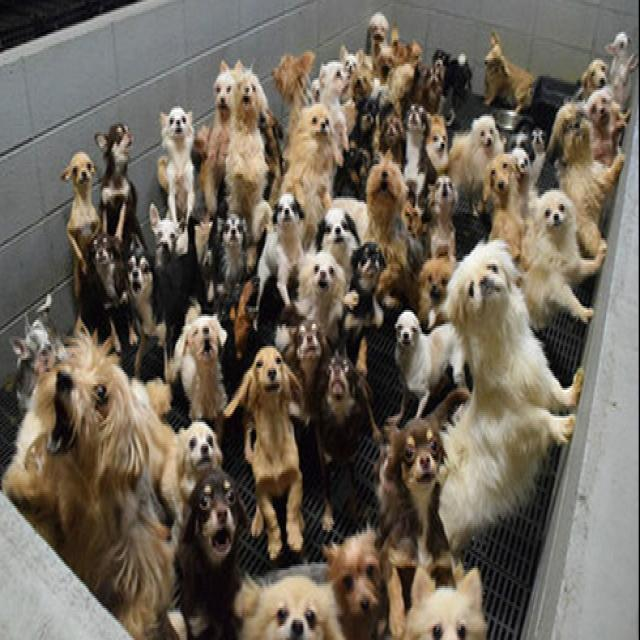dogs: (29, 327, 187, 598), (436, 237, 568, 528), (229, 345, 327, 554), (281, 97, 348, 208)
